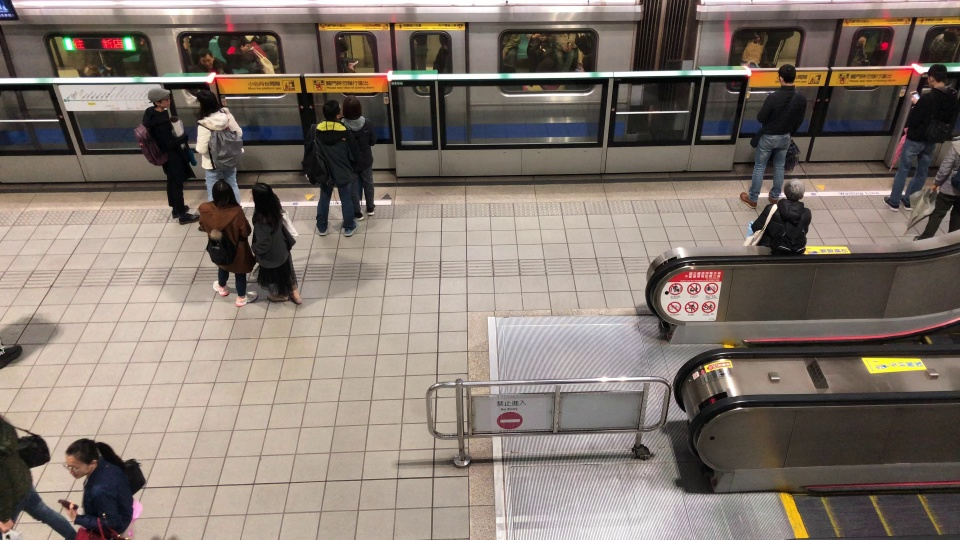person_head: (62, 436, 109, 483), (251, 176, 293, 223), (770, 51, 801, 97), (204, 183, 240, 219), (313, 100, 346, 133), (190, 86, 222, 117), (915, 61, 947, 91), (146, 85, 174, 119), (781, 176, 812, 205), (349, 100, 371, 130)
person_vbox: (740, 42, 819, 210), (882, 60, 953, 211), (0, 410, 76, 540), (294, 100, 362, 245), (241, 173, 309, 317), (56, 436, 148, 540), (181, 186, 254, 310), (725, 176, 822, 255), (134, 86, 187, 227), (184, 88, 246, 208), (347, 100, 384, 229), (925, 141, 957, 250)
